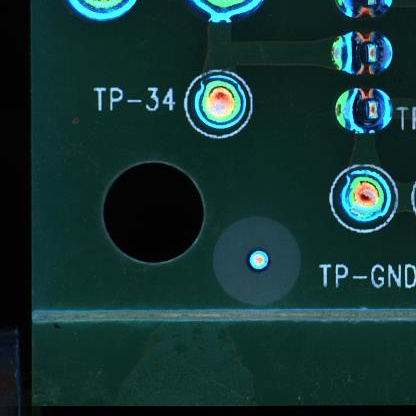spot: (194, 73, 247, 130), (332, 87, 392, 136), (329, 32, 392, 77), (341, 169, 393, 223)
